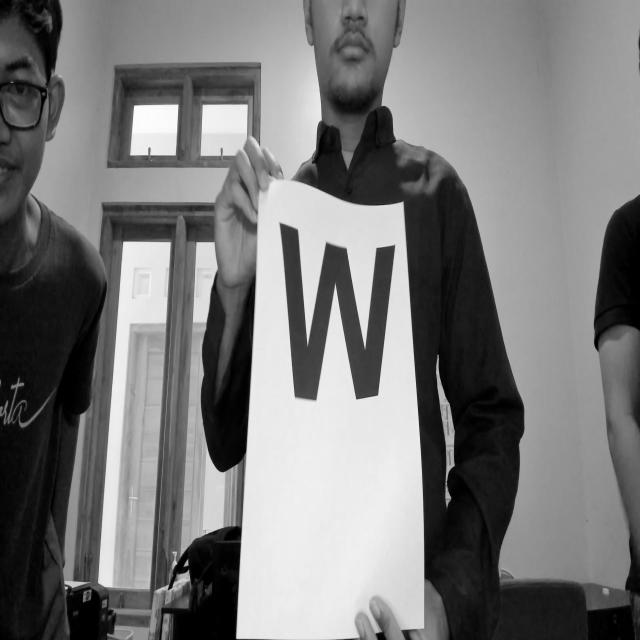w: (266, 195, 418, 412)
